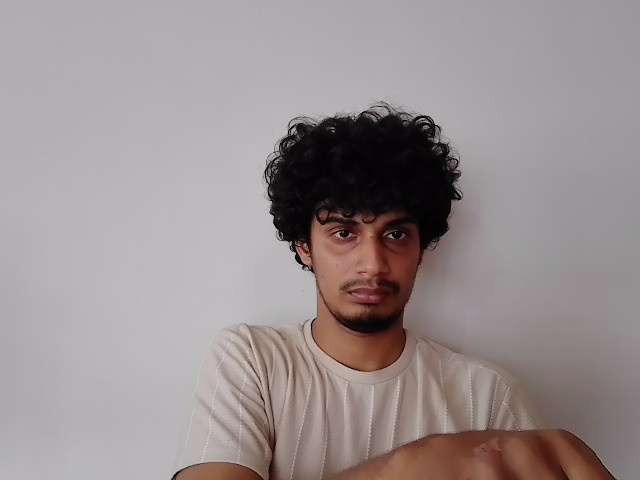you: (383, 430, 611, 480)
